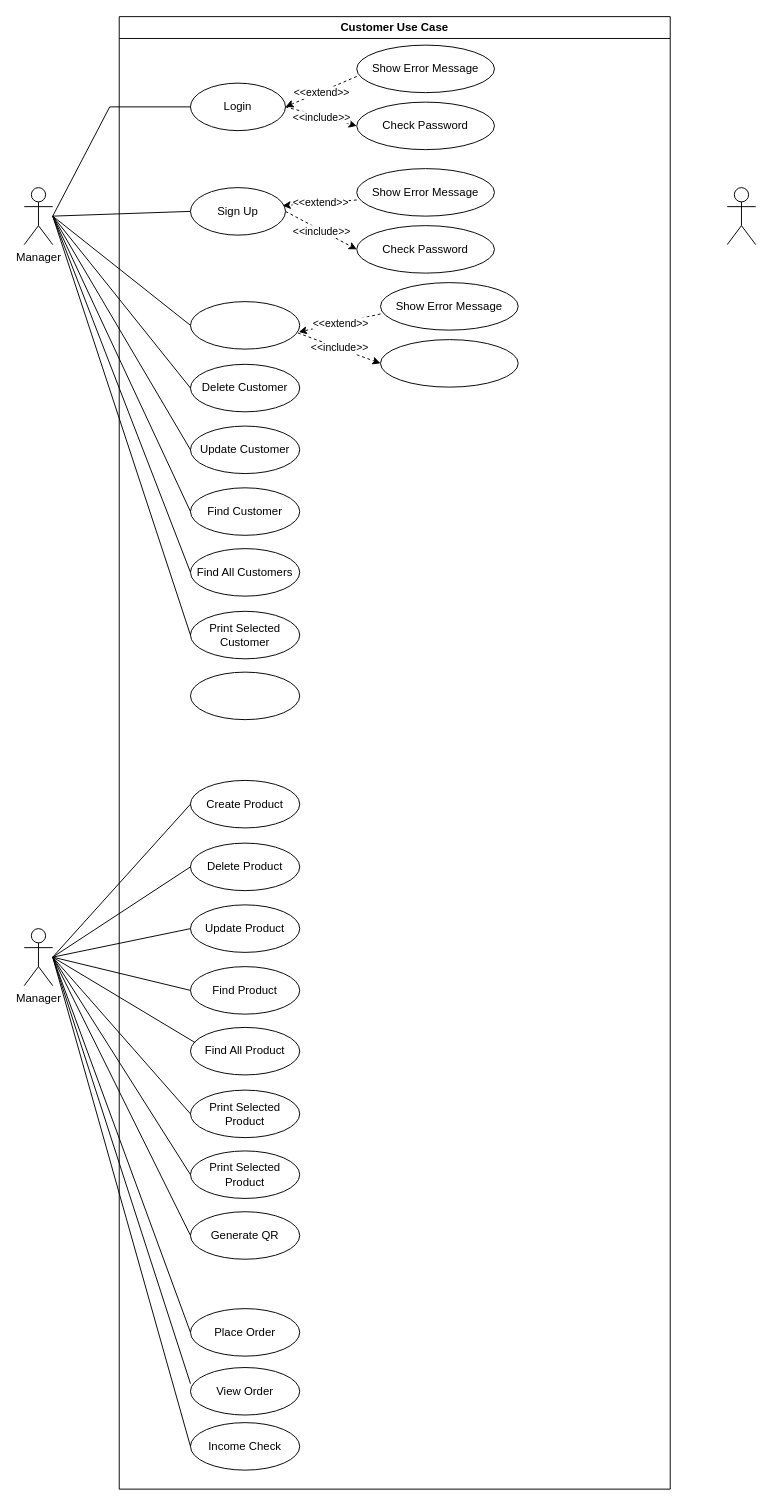
The diagram is 777 pixels wide and 1506 high, and some of its shapes have lost their labels. Each missing label, with the centre of its shape:
Check Email: (x=449, y=363)
Create Customer: (x=245, y=325)
Print Selected Customers: (x=245, y=695)
System: (x=741, y=216)
